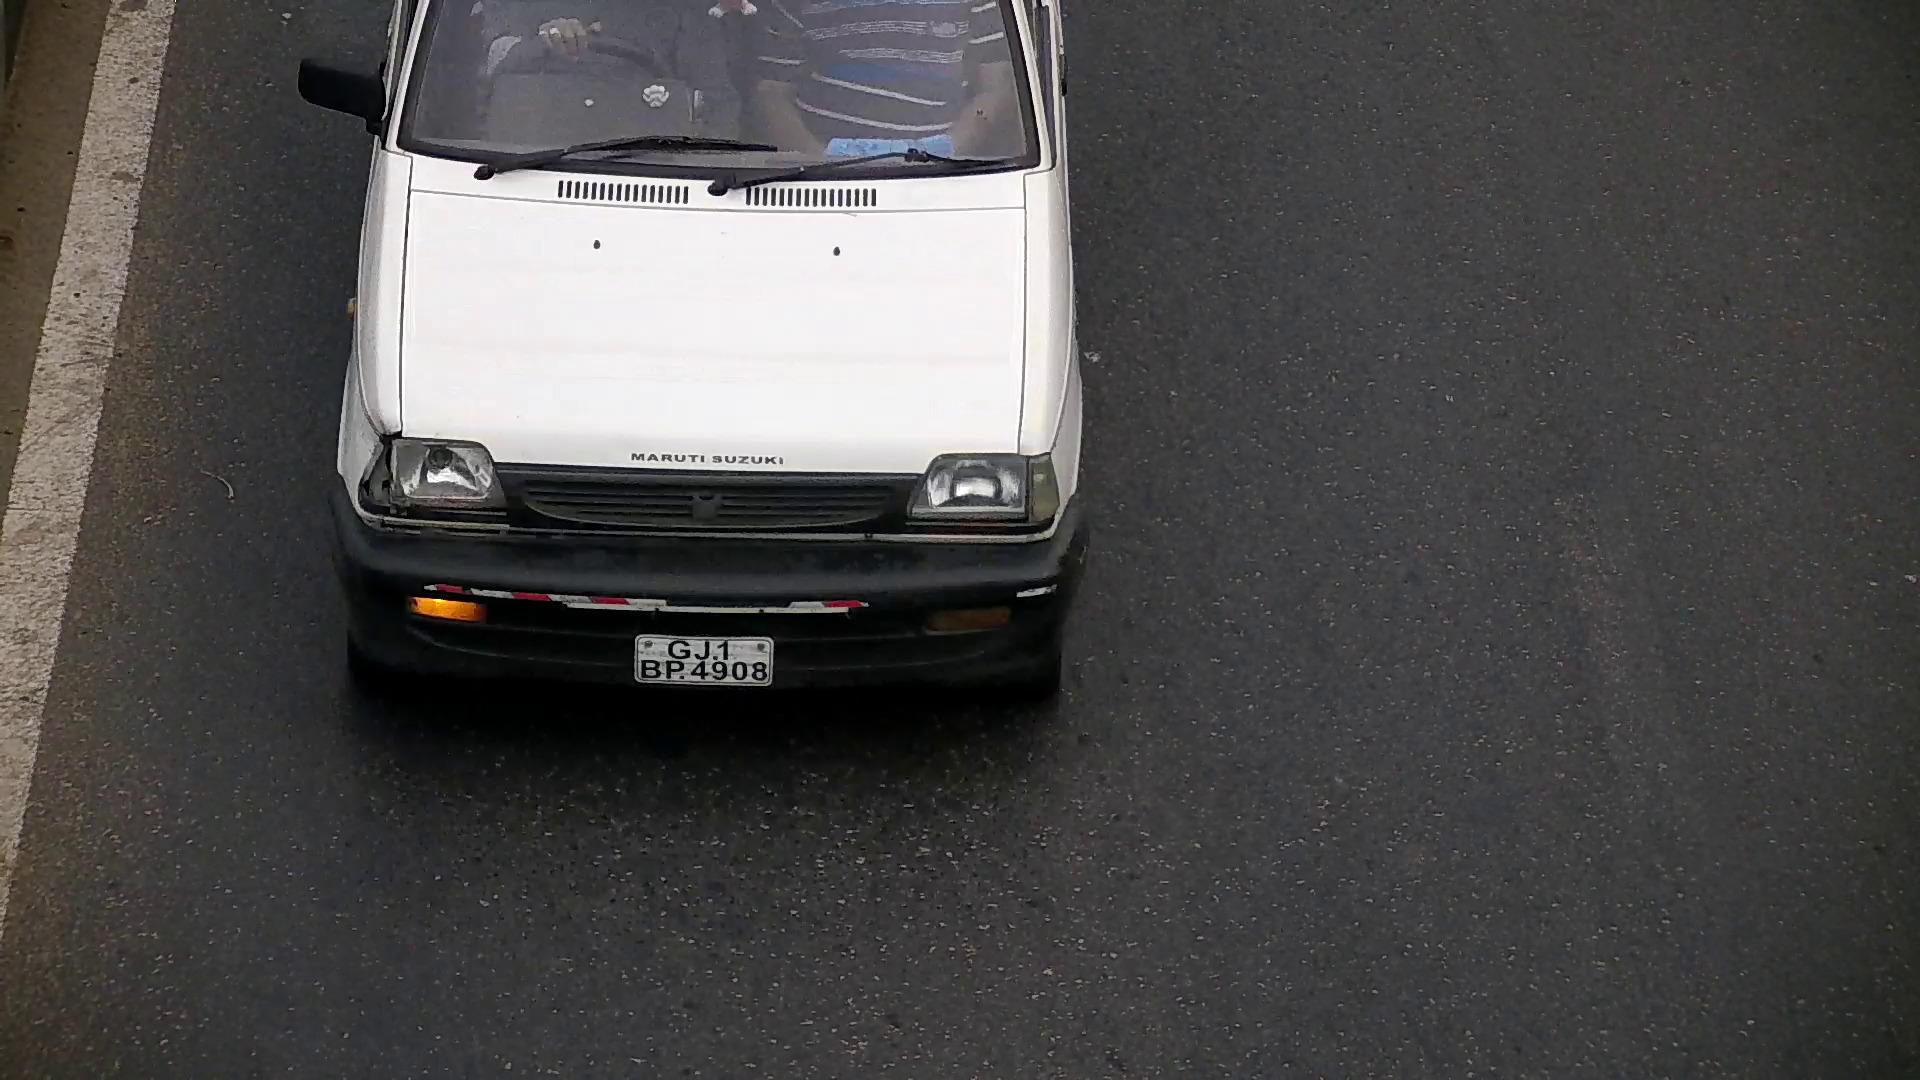doublelinenumberplate: (630, 631, 778, 688)
